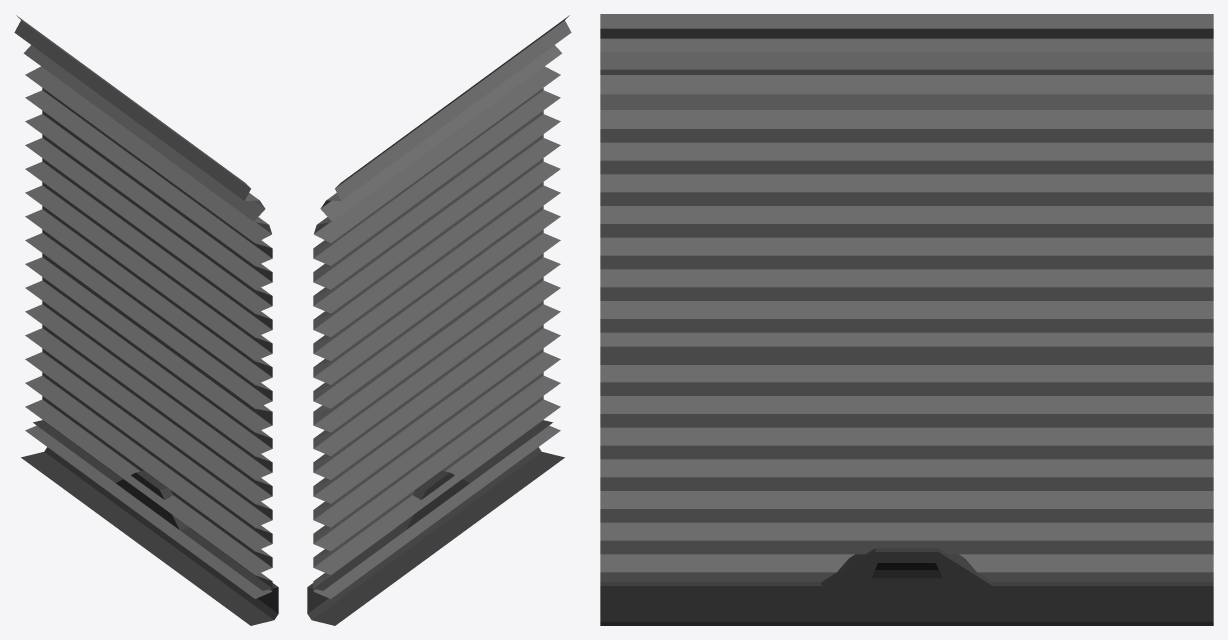
The model's file is door_garage_partup.FBX.
3 renders of one model, left to right at view 1: azimuth 30°, elevation 25°; view 2: azimuth 150°, elevation 25°; view 3: azimuth 270°, elevation 25°, orthographic. The views are drawn at different scales.
Parts seen in each view (by area): view 1: door_garage_partup; view 2: door_garage_partup; view 3: door_garage_partup.
Part boxes in pixels (left/top/right/bottom): door_garage_partup: left=14, top=15, right=278, bottom=625; door_garage_partup: left=307, top=15, right=571, bottom=625; door_garage_partup: left=600, top=14, right=1213, bottom=625.
Size of the model in its own units: 11.65 by 146 by 137.
